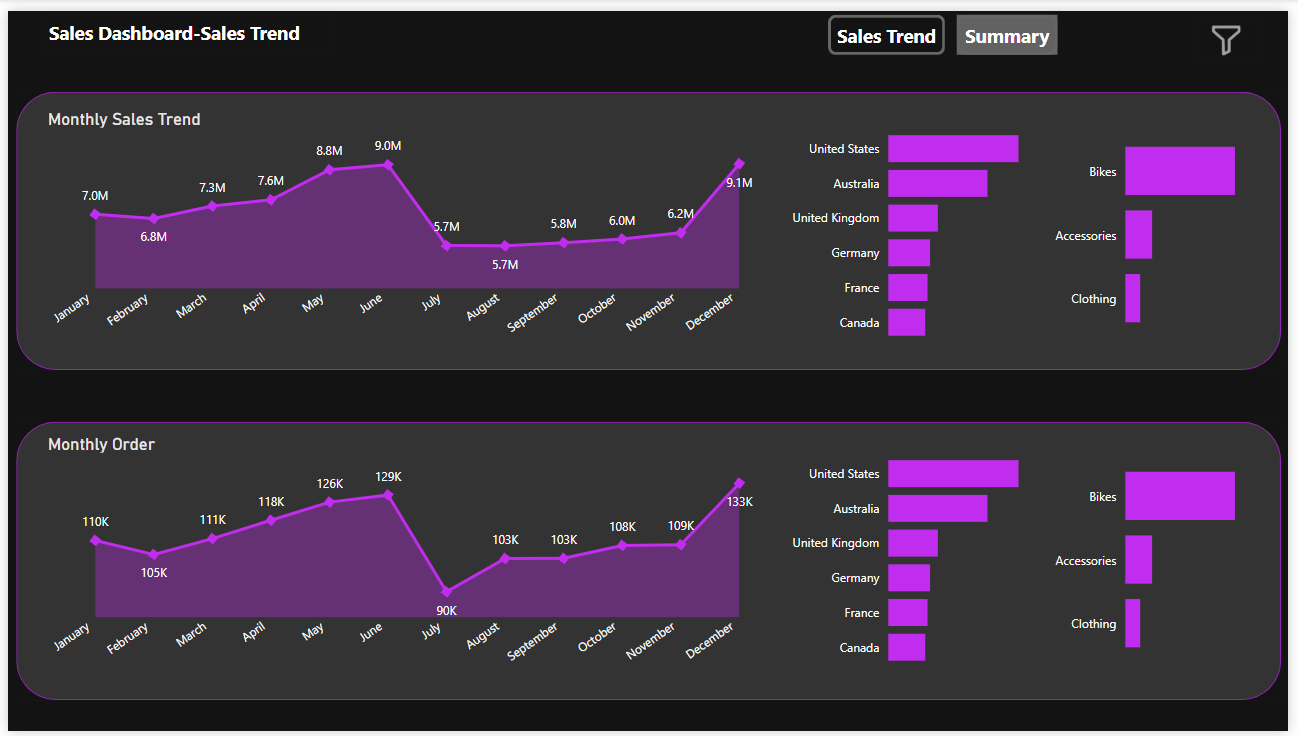

The dashboard page shown, as its layout file describes it:
{"tool":"powerbi","page":{"name":"Sales Trend","canvas":[1280,720],"ordinal":1},"visuals":[{"type":"shape","box":[7.3,80.5,1266.8,280.1],"z":0},{"type":"shape","box":[7.3,410.1,1266.8,280.1],"z":1000},{"type":"lineChart","title":"Monthly Sales Trend","fields":{"Y":["Sum(sales_data.Revenue)"],"Category":["sales_data.Date.Variation.Date Hierarchy.Month"]},"box":[34.8,97,724.9,247.1],"z":2000},{"type":"textbox","box":[34.8,3.7,292.9,36.6],"z":3000},{"type":"lineChart","title":"Monthly Order","fields":{"Y":["Sum(sales_data.Order_Quantity)"],"Category":["sales_data.Date.Variation.Date Hierarchy.Month"]},"box":[34.8,422.9,724.9,250.8],"z":4000},{"type":"barChart","title":"Yearly Sales Trend","fields":{"Category":["sales_data.Country"],"Y":["Sum(sales_data.Revenue)"]},"box":[772.5,97,252.6,247.1],"z":5000},{"type":"barChart","title":"Yearly Sales Trend","fields":{"Y":["Sum(sales_data.Revenue)"],"Category":["sales_data.Product_Category"]},"box":[1038,97,227,247.1],"z":6000},{"type":"barChart","title":"Yearly Sales Trend","fields":{"Category":["sales_data.Country"],"Y":["Sum(sales_data.Revenue)"]},"box":[772.5,422.9,252.6,247.1],"z":7000},{"type":"barChart","title":"Yearly Sales Trend","fields":{"Y":["Sum(sales_data.Revenue)"],"Category":["sales_data.Product_Category"]},"box":[1038,422.9,227,247.1],"z":8000},{"type":"actionButton","box":[948.3,3.7,100.7,40.3],"z":9000},{"type":"actionButton","box":[820.1,3.7,117.2,40.3],"z":10000},{"type":"image","box":[1186.3,7.3,64.1,43.9],"z":12000}]}

Visuals, with their boxes in screenshot pixels (x1, y1, x2, y2), scaled from the page's 1280x720 canvas onto the 1298x736 screenshot:
shape: <box>7,82,1292,369</box>
shape: <box>7,419,1292,706</box>
"Monthly Sales Trend" lineChart: <box>35,99,770,352</box>
textbox: <box>35,4,332,41</box>
"Monthly Order" lineChart: <box>35,432,770,689</box>
"Yearly Sales Trend" barChart: <box>783,99,1040,352</box>
"Yearly Sales Trend" barChart: <box>1053,99,1283,352</box>
"Yearly Sales Trend" barChart: <box>783,432,1040,685</box>
"Yearly Sales Trend" barChart: <box>1053,432,1283,685</box>
actionButton: <box>962,4,1064,45</box>
actionButton: <box>832,4,950,45</box>
image: <box>1203,7,1268,52</box>
